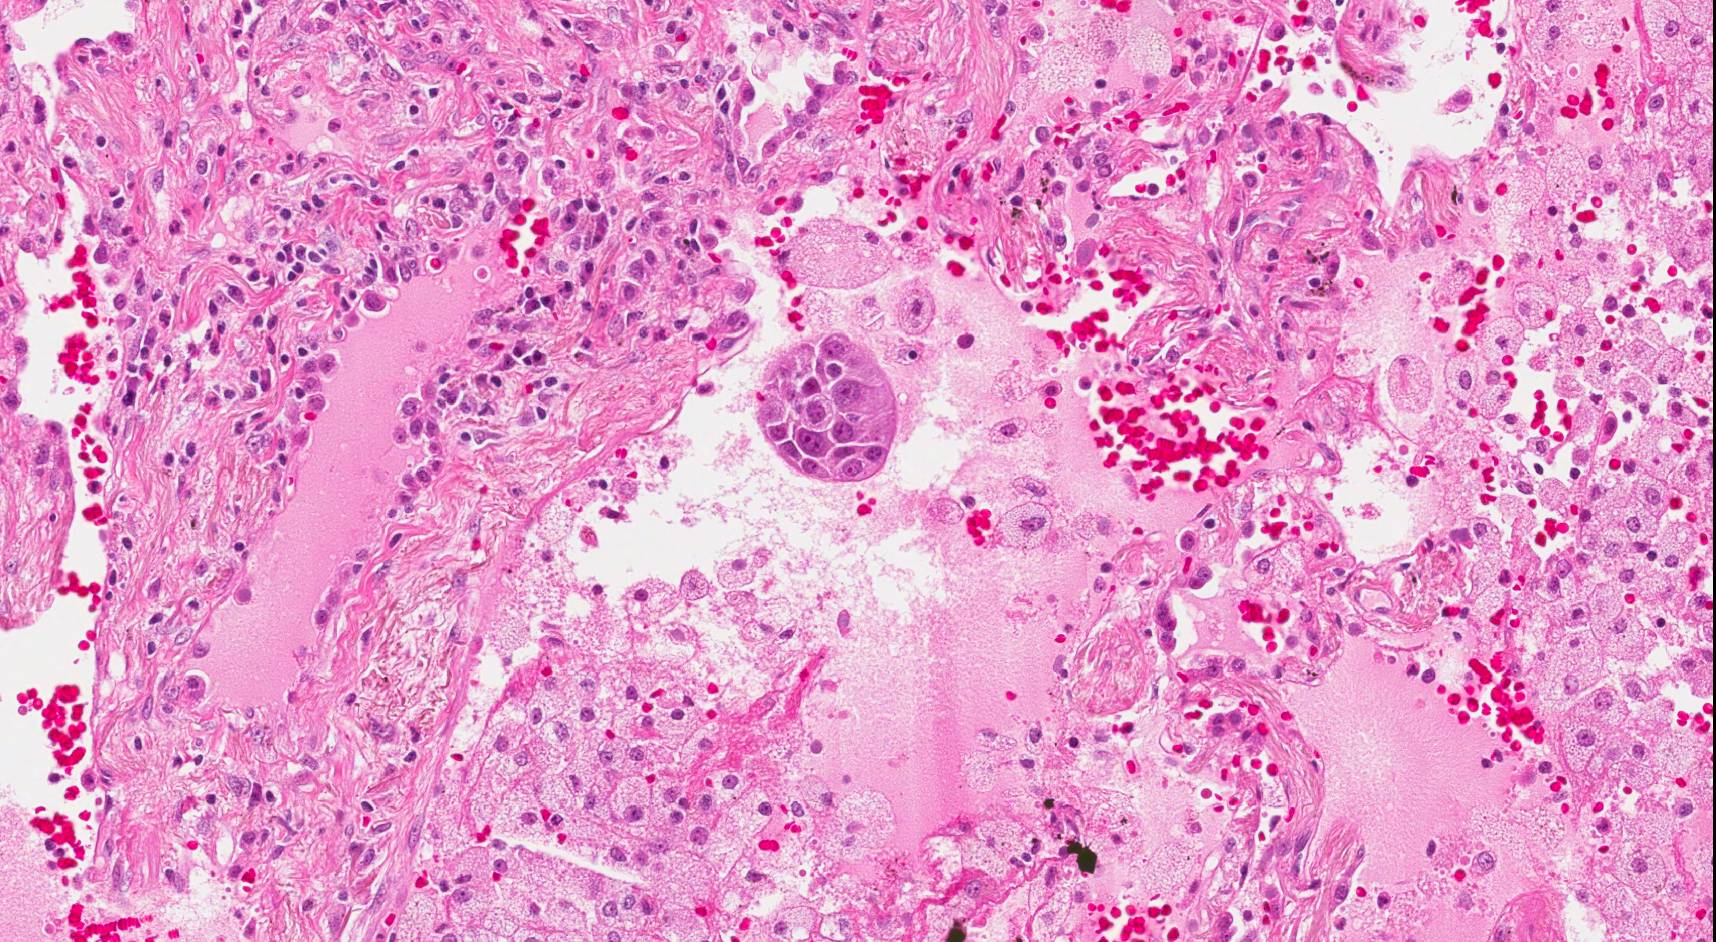stas: (756, 335, 900, 487)
